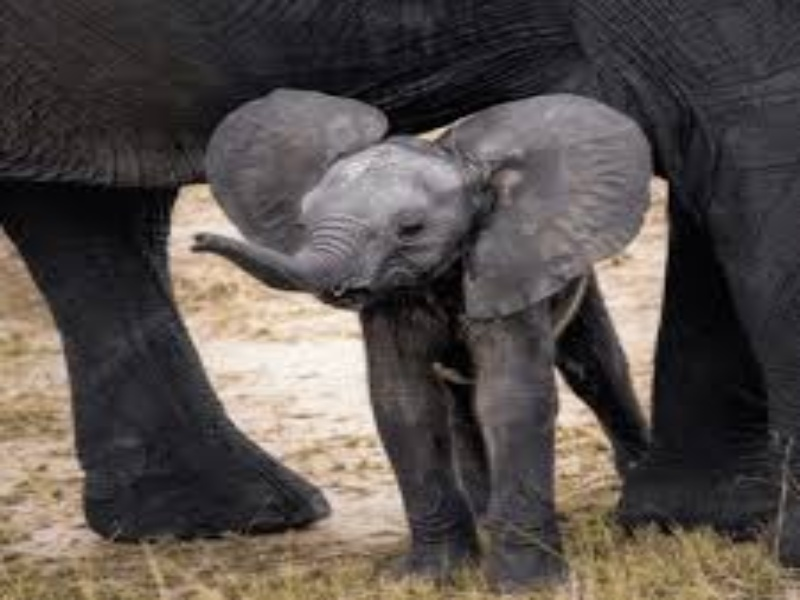elephant: (188, 81, 673, 582)
